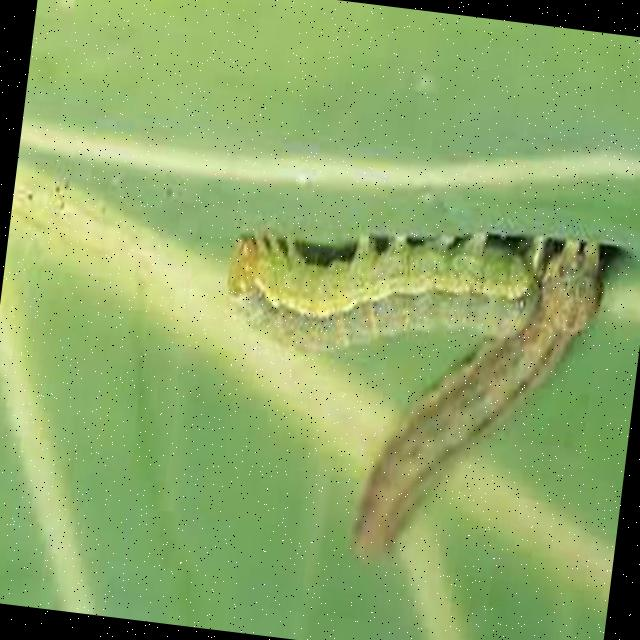worm: (195, 198, 617, 590), (243, 202, 550, 348)
